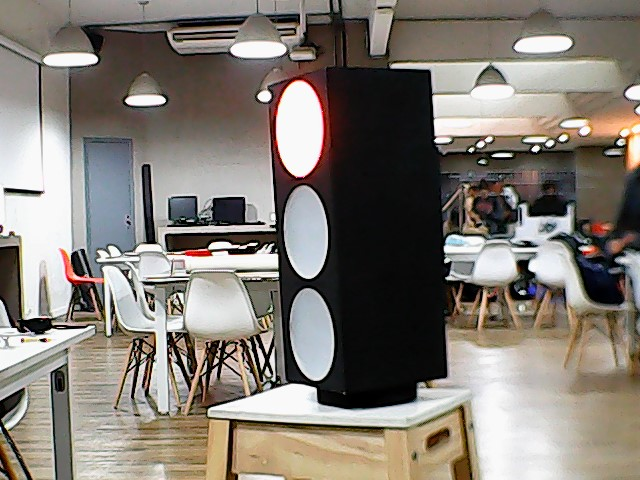vermelho: (264, 67, 456, 392)
